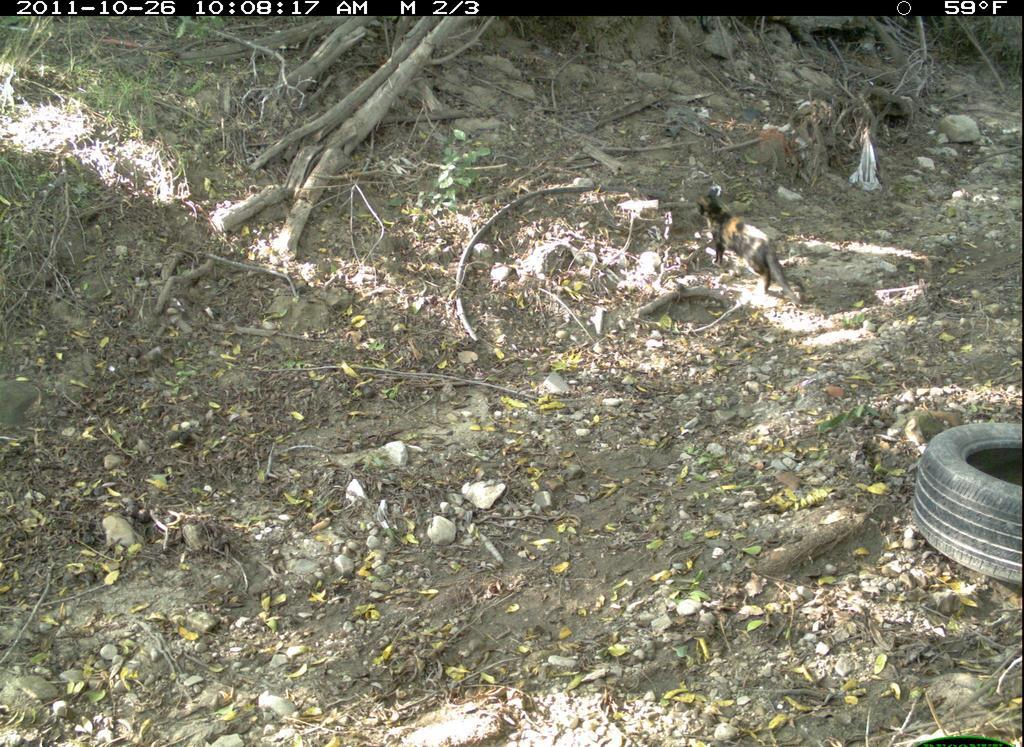cat: (689, 181, 809, 308)
